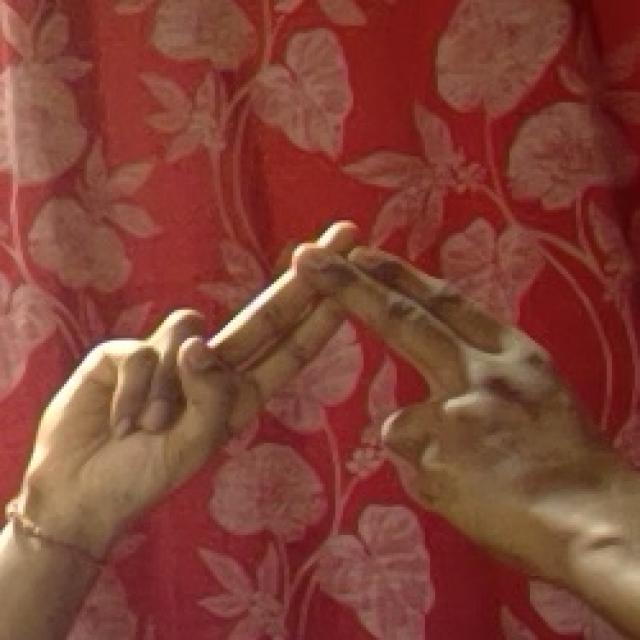Alphabet-F: (31, 220, 604, 562)
